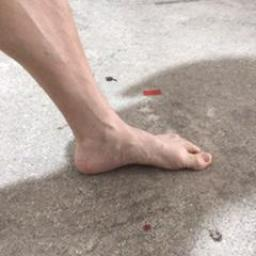Medial View -Left Foot-: (63, 120, 219, 190)
